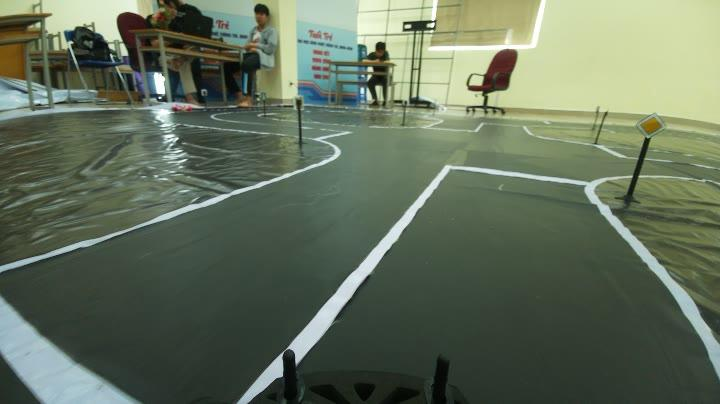priority: (632, 110, 666, 141)
